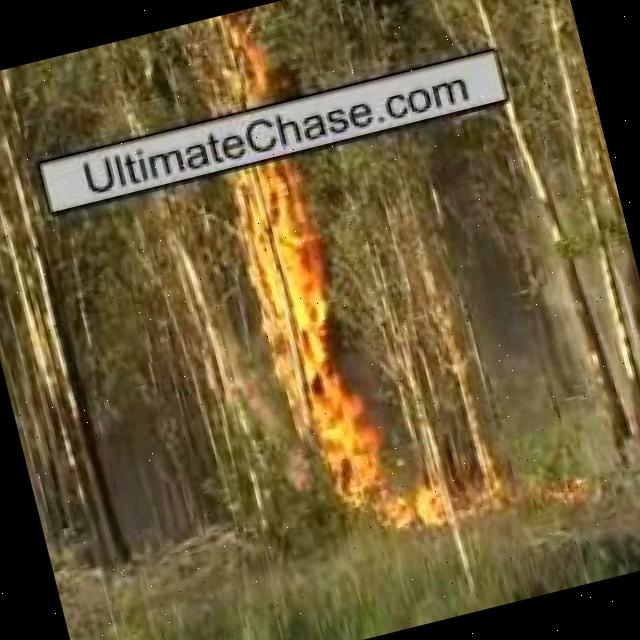fire: (229, 168, 350, 418), (296, 392, 459, 551), (211, 16, 271, 106)
